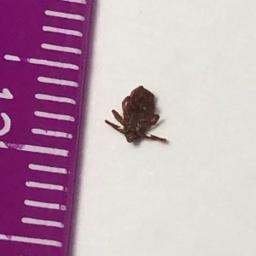Rhipicephalus sanguineus: (103, 86, 167, 145)
